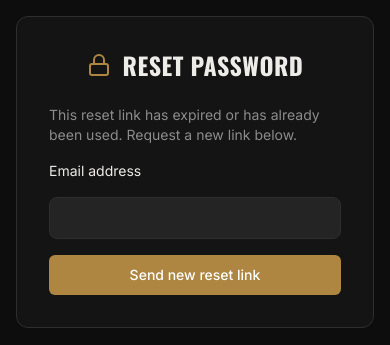
it: password reset › offers a fresh link for an expired session rather than spinning forever
This screenshot has width=390, height=345.
Expected: the message is shown, [49,105,341,145]
In the field labelled "Email address": coordinates (195, 218) [49,197,341,239], type "parent@example.test"
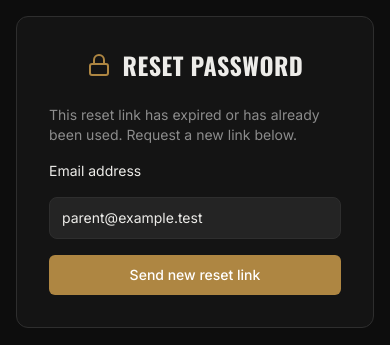
Click the button "Send new reset link": coordinates (195, 275) [49,255,341,295]
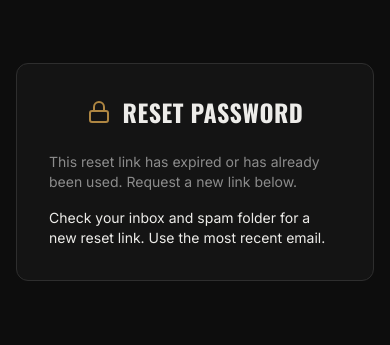
Now the 2nd message is shown, box [49,208,341,248]
